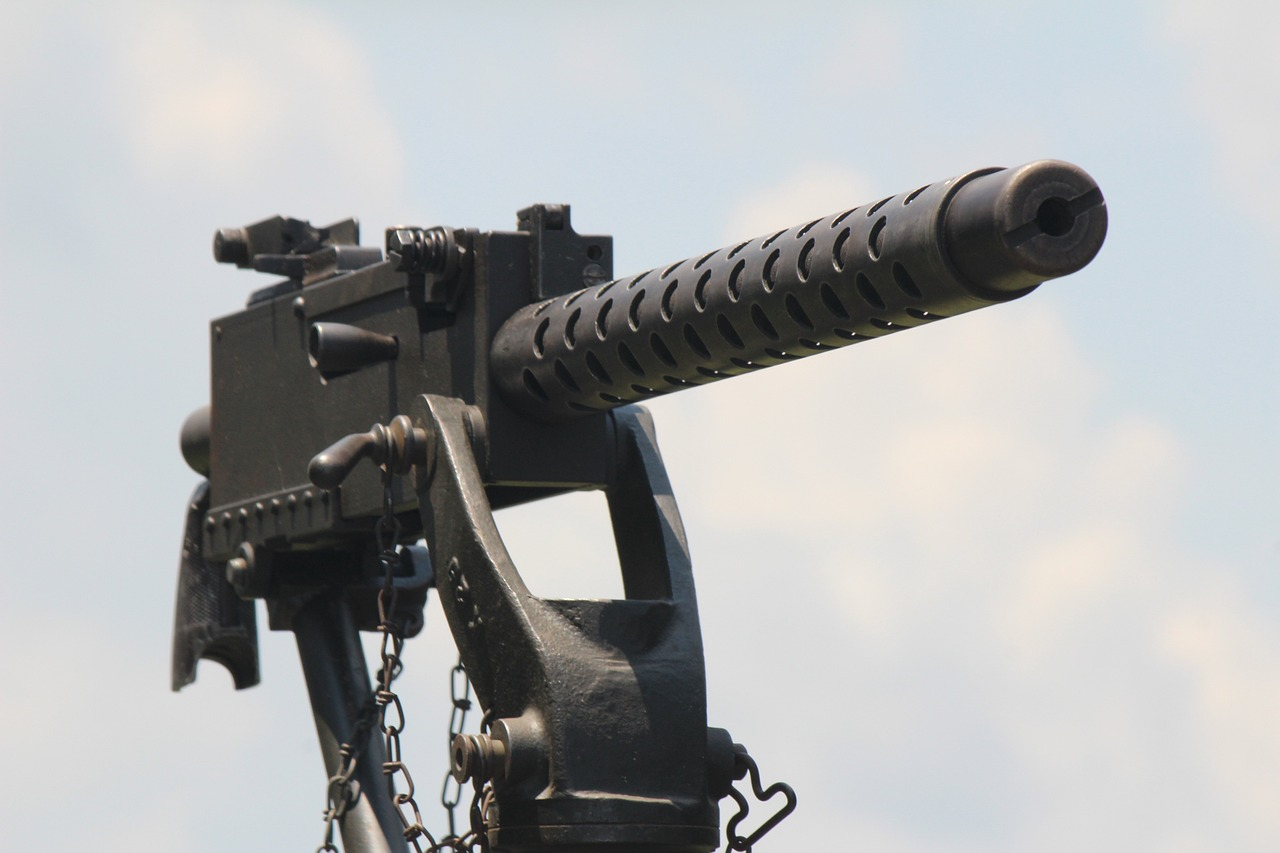gun: (164, 151, 1116, 700)
